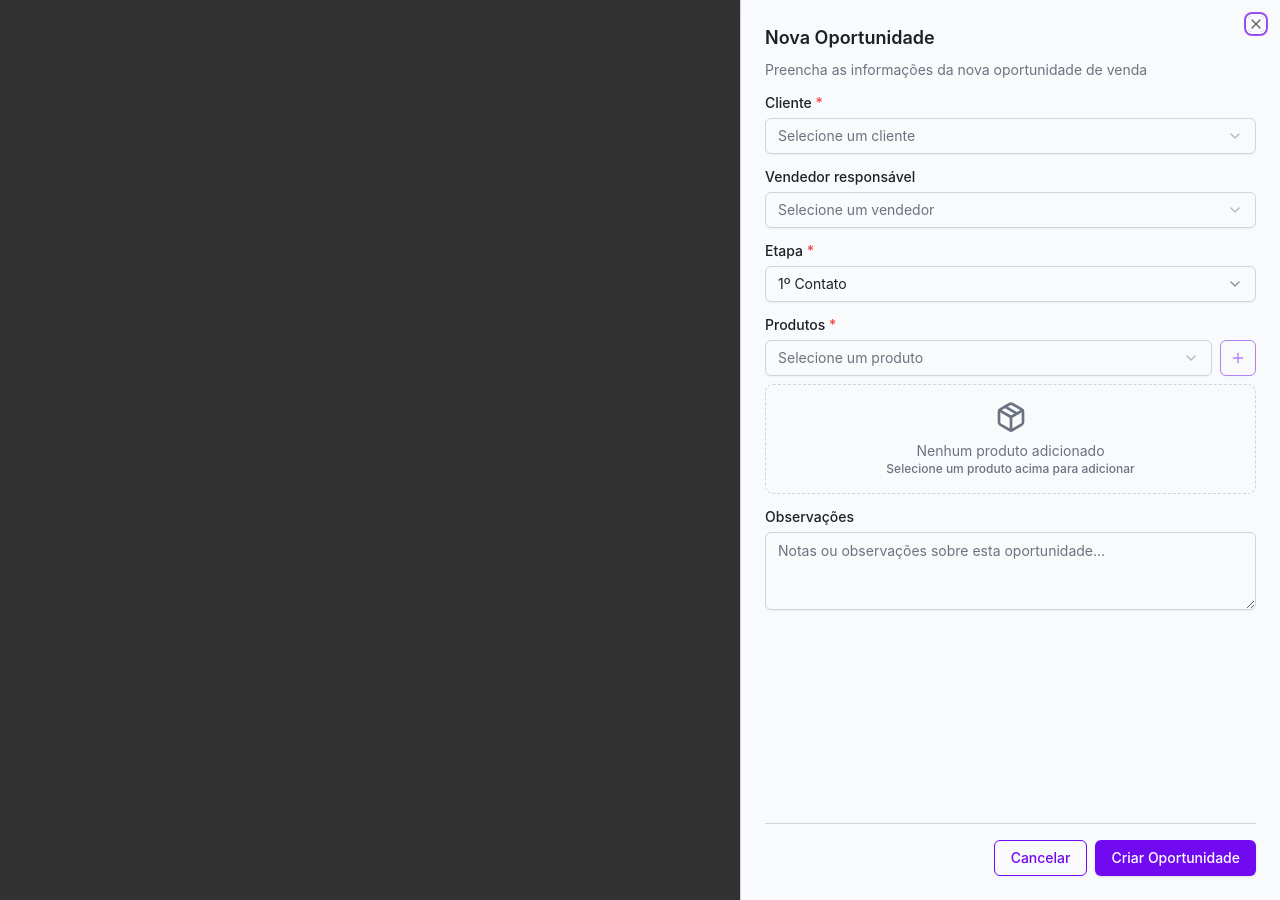
Test: FormularioOportunidade › Validation › should show validation errors when form is incomplete
Click the button "Criar Oportunidade" at (1176, 858), box x1=1096 y1=840 x2=1256 y2=876
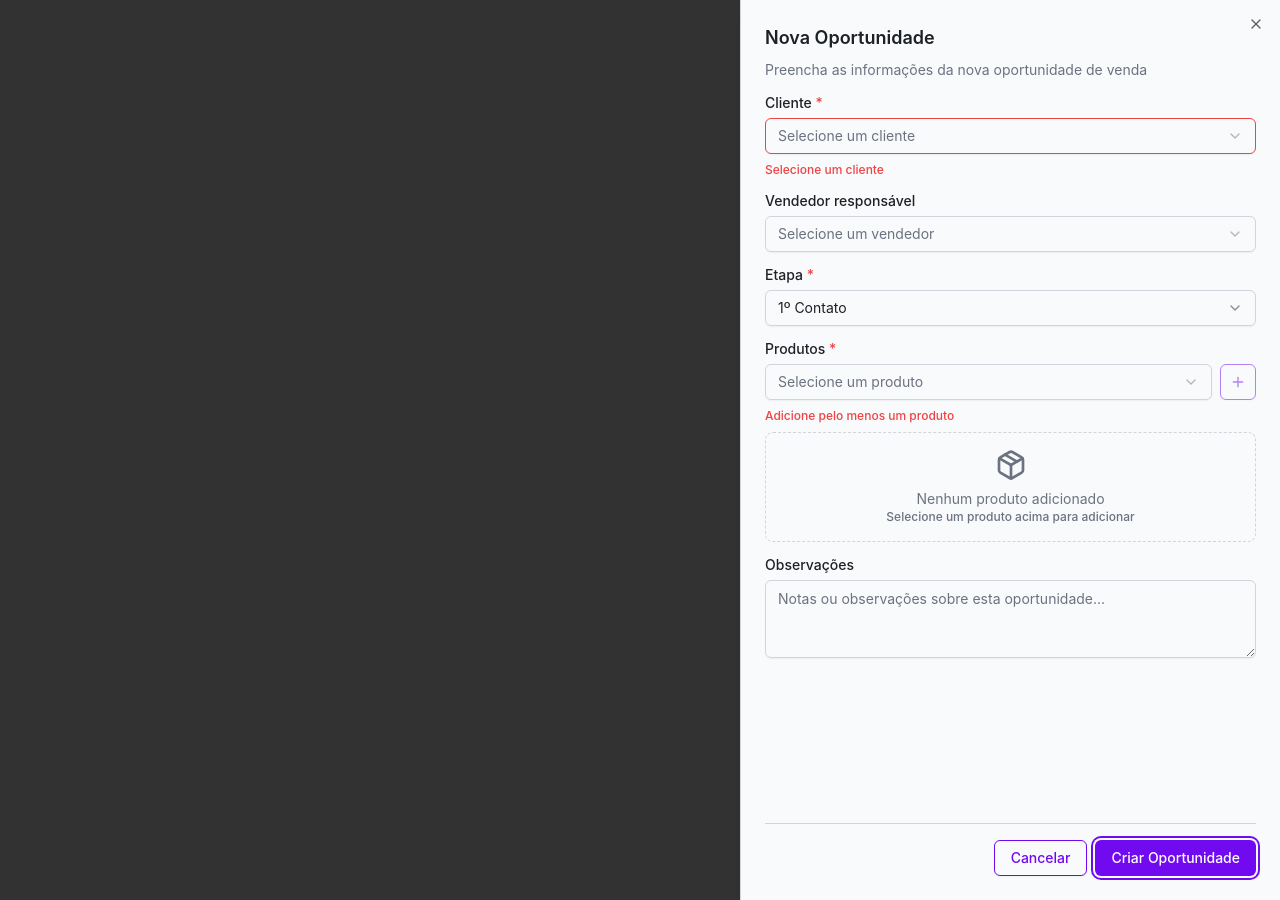
Result: the text "Adicione pelo menos um produto" is shown at x1=765 y1=408 x2=954 y2=423
